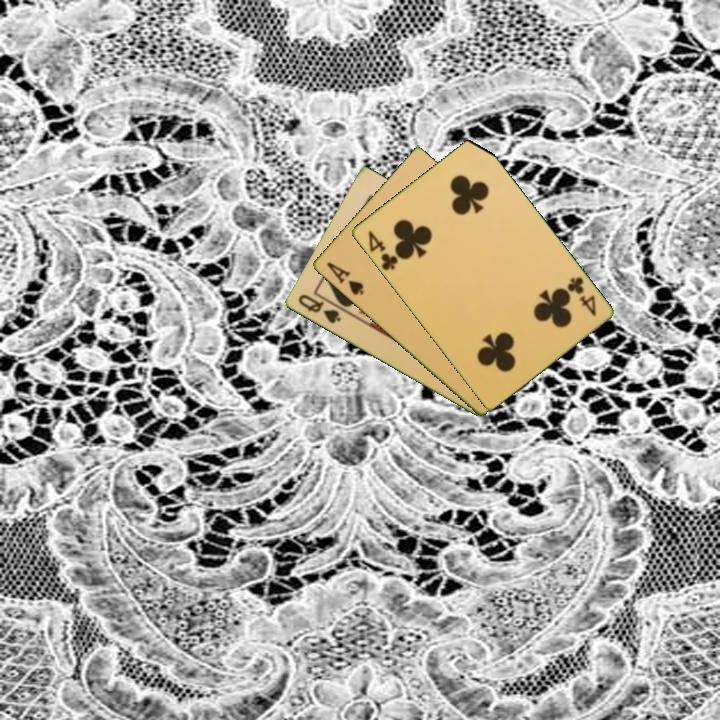4c: (364, 227, 400, 273), (563, 273, 599, 319)
As: (323, 258, 367, 298)
Qs: (294, 291, 344, 327)
